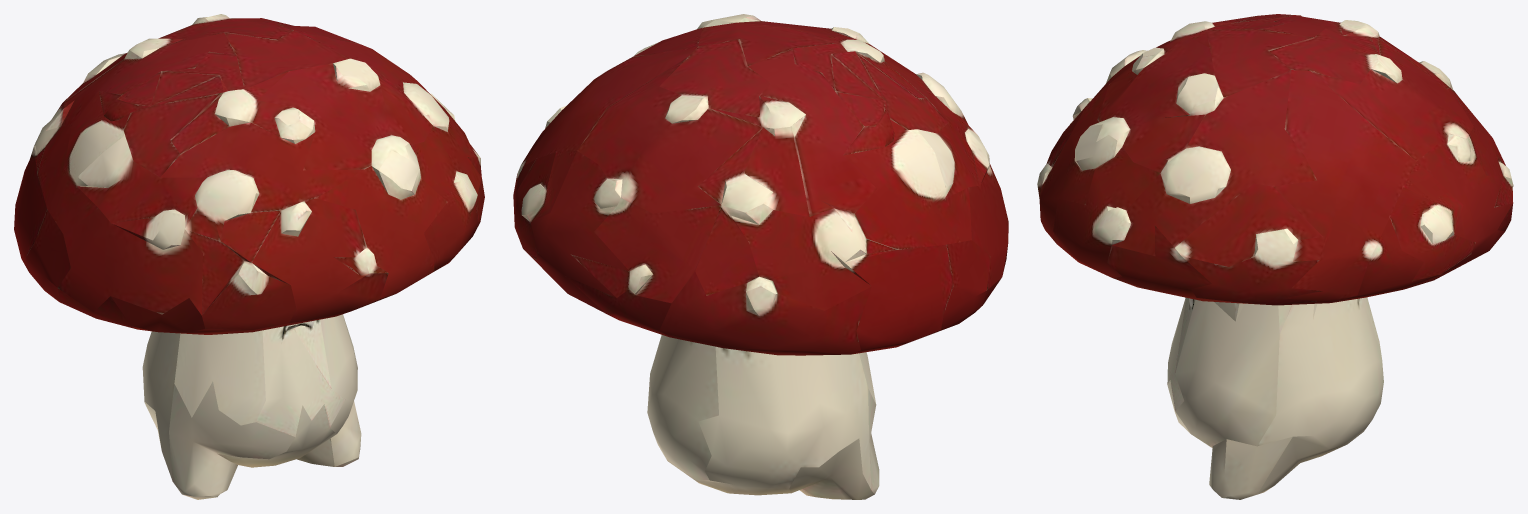
The model's file is sporecap.glb.
3 views of the same model, side by side, from view 1: azimuth 30°, elevation 25°; view 2: azimuth 150°, elevation 25°; view 3: azimuth 270°, elevation 25° (orthographic). The views are drawn at different scales.
Bounding box in the file's own units: 1.88 × 1.85 × 1.9.
Materials: 1 (1 with a texture image).
